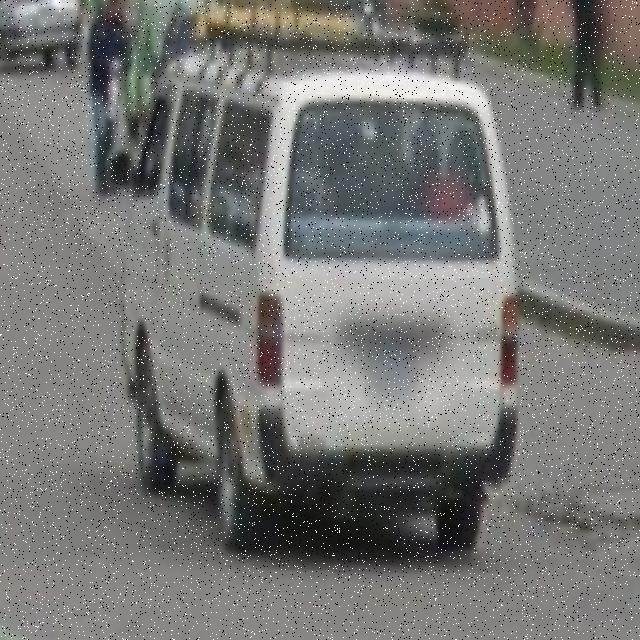cars: (109, 0, 520, 562)
